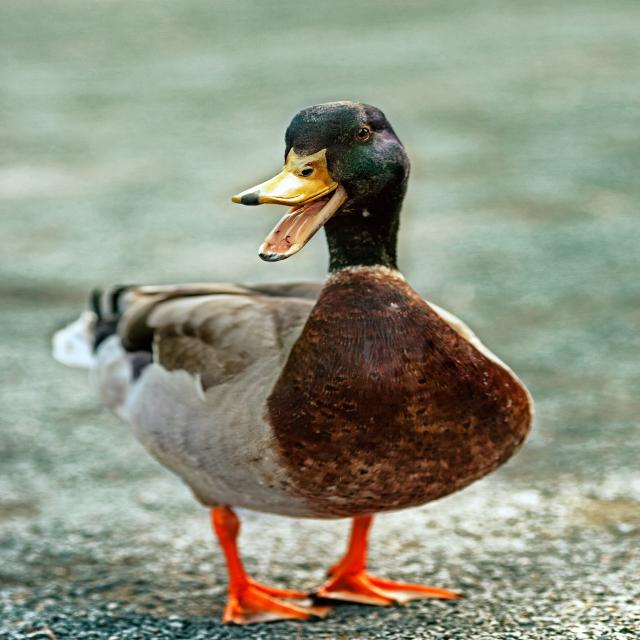ducks: (54, 86, 556, 626)
